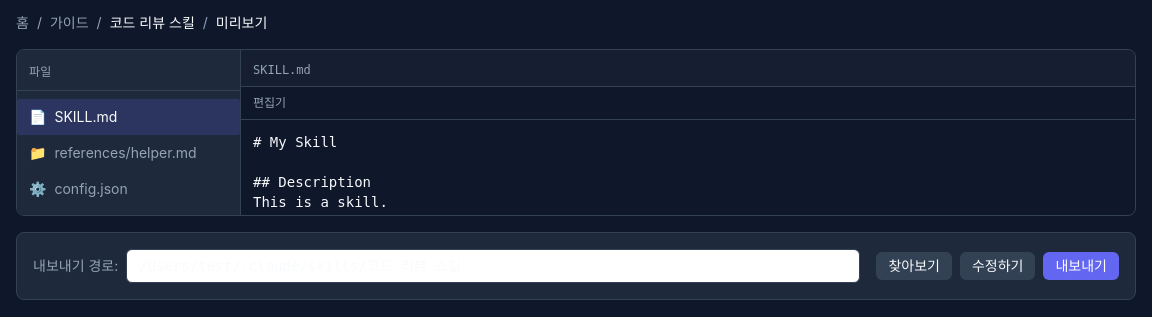
Preview › 내보내기 중에 내보내기 버튼이 비활성화된다
This screenshot has width=1152, height=317.
Click export - button text changes to "내보내는 중..."
Click the button "내보내기" at (1081, 266), box top-left (1044, 252), bottom-right (1119, 280)
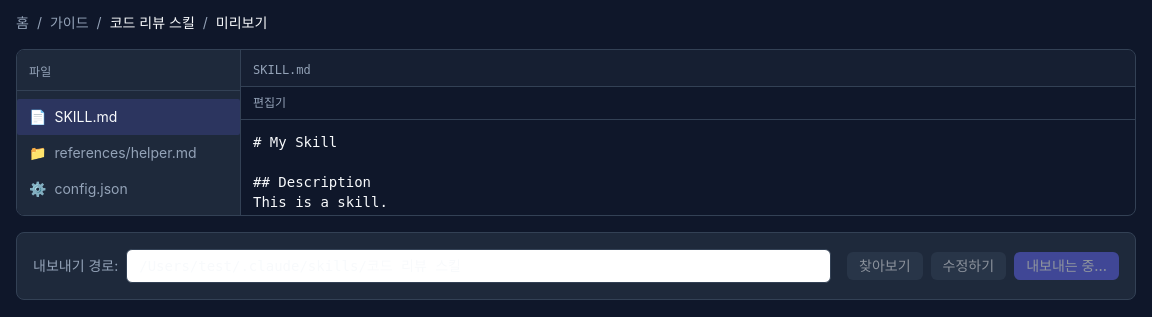
Result: the button "내보내는 중..." is disabled at top-left (1014, 252), bottom-right (1119, 280)
